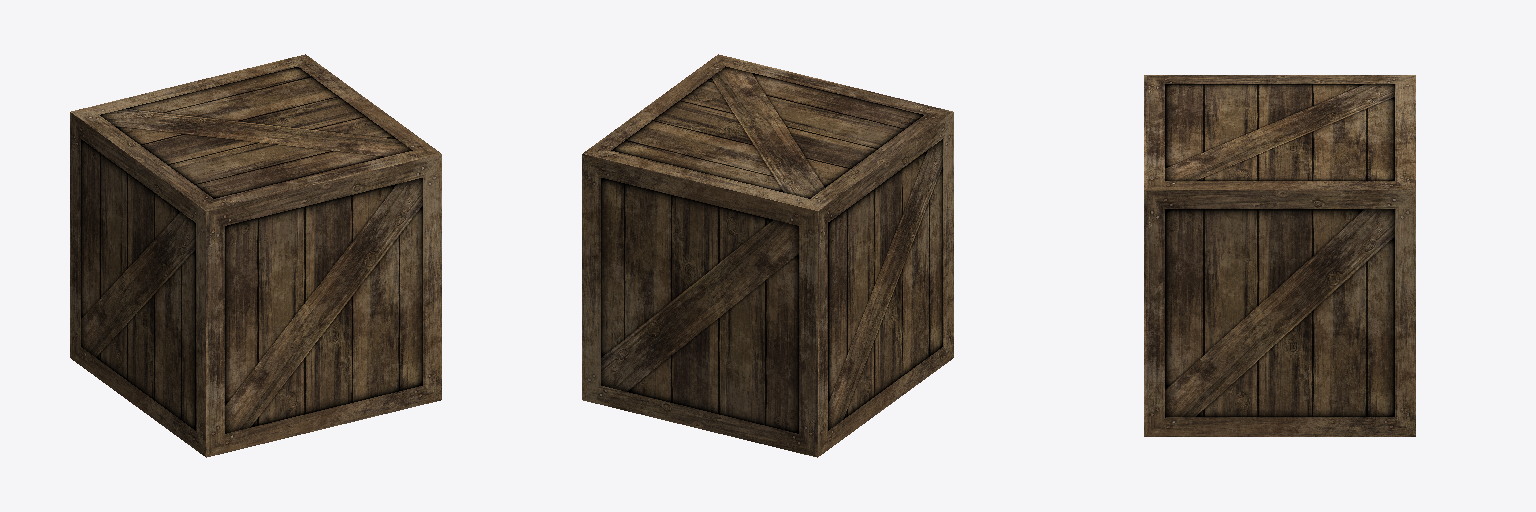
The picture shows the model from 3 angles: view 1: azimuth 30°, elevation 25°; view 2: azimuth 150°, elevation 25°; view 3: azimuth 270°, elevation 25°; orthographic projection.
Visible parts, largest first — view 1: Crate_Cube; view 2: Crate_Cube; view 3: Crate_Cube.
Part boxes in pixels (bbox=[...]): Crate_Cube: bbox=[70, 54, 441, 457]; Crate_Cube: bbox=[582, 54, 953, 457]; Crate_Cube: bbox=[1144, 75, 1415, 436].
Size of the model in its own units: 2 by 2 by 2.
Materials: 1 (1 with a texture image).